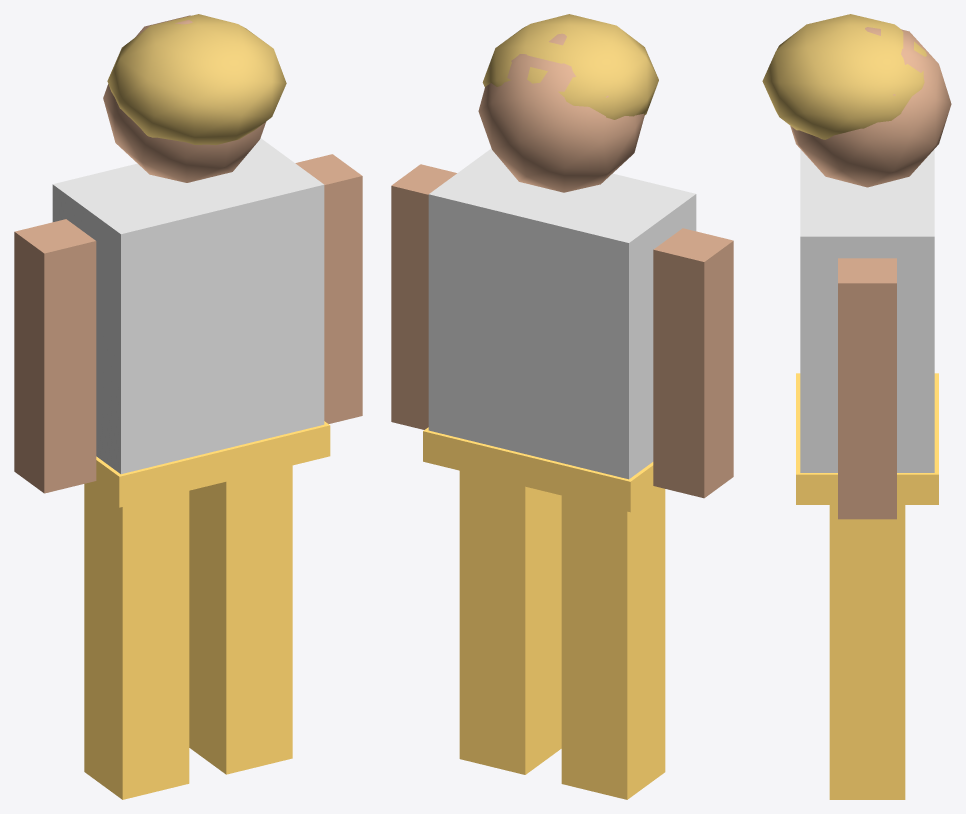
The model's file is runner-angel.glb.
3 renders of one model, left to right at view 1: azimuth 30°, elevation 25°; view 2: azimuth 150°, elevation 25°; view 3: azimuth 270°, elevation 25°, orthographic.
Visible parts, largest first — view 1: Runner (Angel); view 2: Runner (Angel); view 3: Runner (Angel).
Part boxes in pixels (box(x1,y1,x2,y2)): Runner (Angel): box(14, 14, 362, 799); Runner (Angel): box(391, 14, 733, 799); Runner (Angel): box(762, 14, 951, 799).
Bounding box in the file's own units: 0.86 × 1.93 × 0.45.
